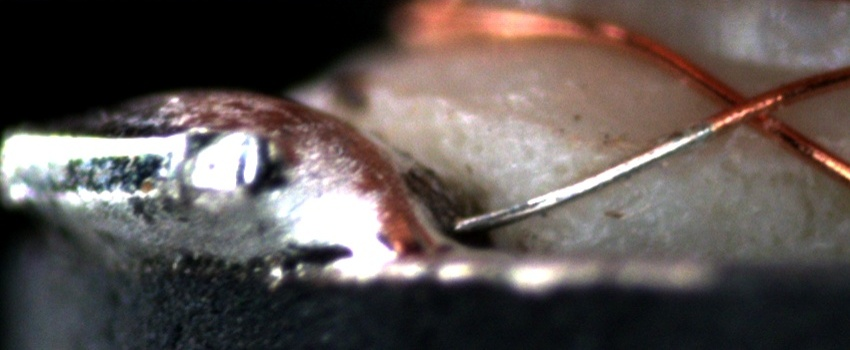CL: (696, 77, 795, 142)
DL: (550, 131, 727, 179)
TS: (451, 120, 714, 234)
